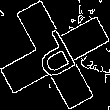P_SE: (26, 24, 84, 86)
